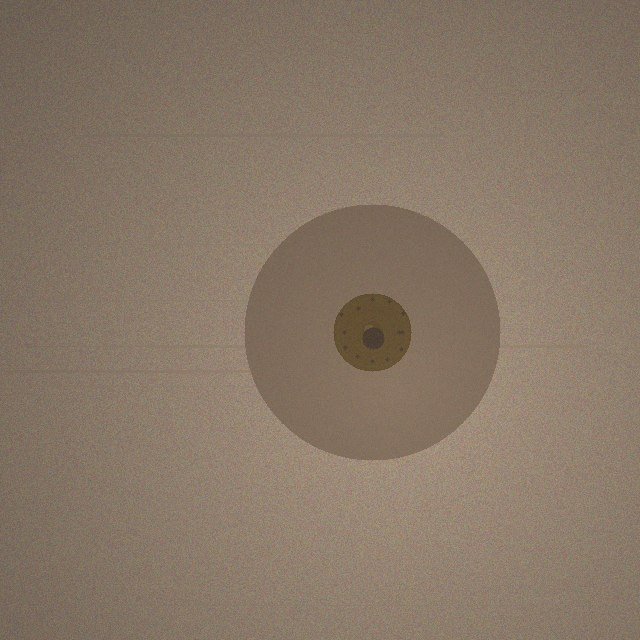cold_weld: (244, 204, 500, 460)
